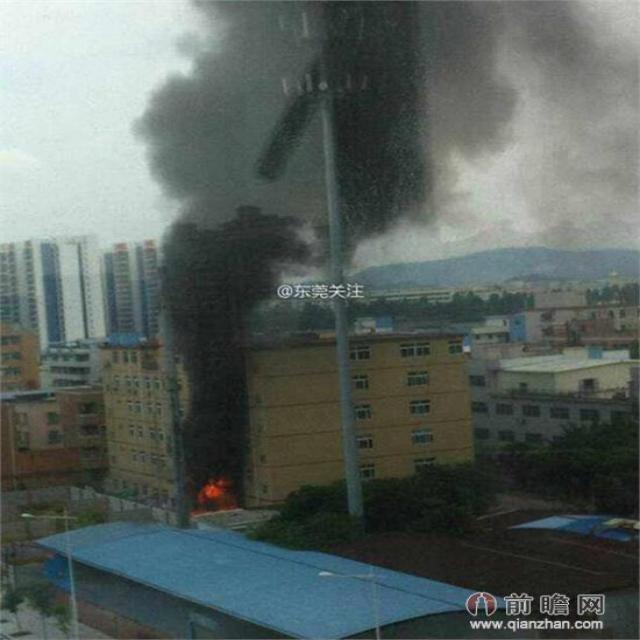fire: (192, 475, 234, 512)
smoke: (137, 0, 640, 465)
